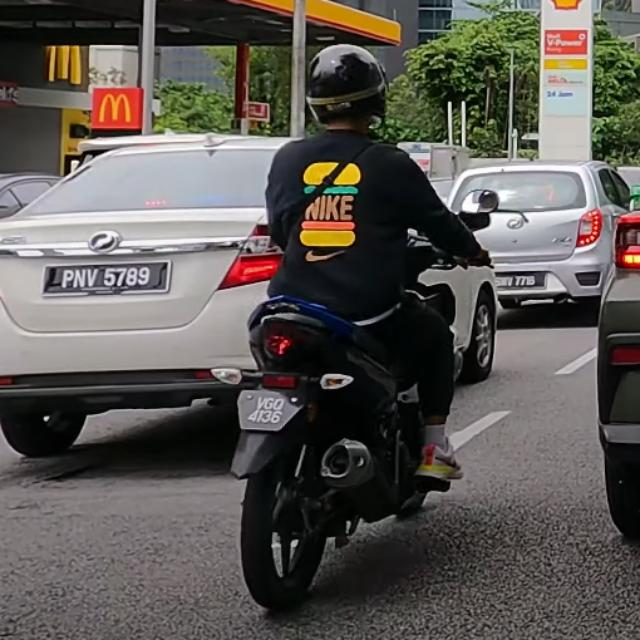License_Plate: (235, 389, 305, 434)
motorcycle: (228, 190, 501, 611)
